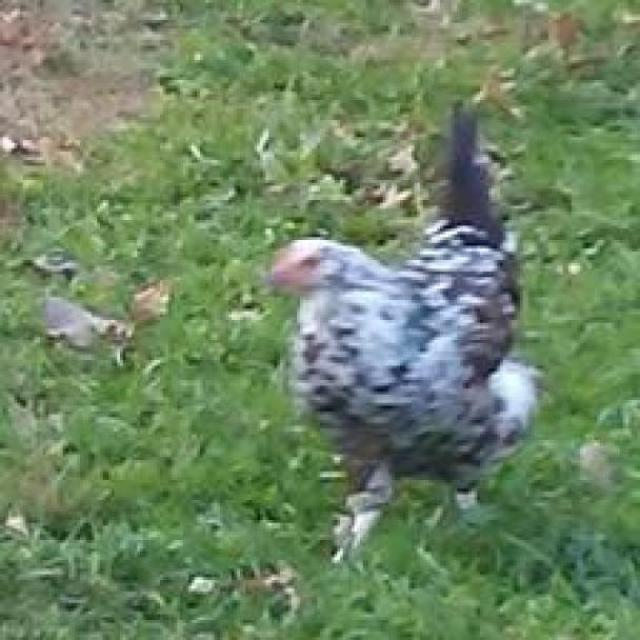Chicken: (195, 132, 624, 595)
